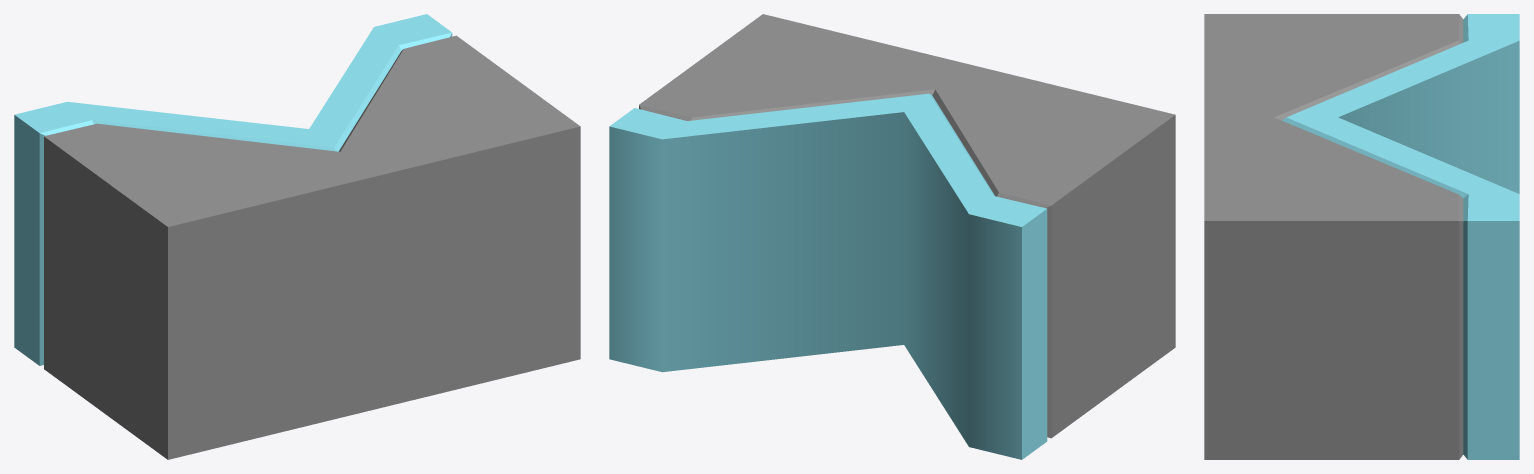
Rendered from SM_BigInteruptor_Part.FBX.
3 views of the same model, side by side, from view 1: azimuth 30°, elevation 25°; view 2: azimuth 150°, elevation 25°; view 3: azimuth 270°, elevation 25° (orthographic). The views are drawn at different scales.
Parts seen in each view (by area): view 1: SM_BigInterruptor_part; view 2: SM_BigInterruptor_part; view 3: SM_BigInterruptor_part.
Part boxes in pixels (box(x1,y1,x2,y2)): SM_BigInterruptor_part: box(14, 14, 580, 459); SM_BigInterruptor_part: box(609, 14, 1175, 459); SM_BigInterruptor_part: box(1204, 14, 1519, 459).
Bounding box in the file's own units: 417 × 225 × 269.
